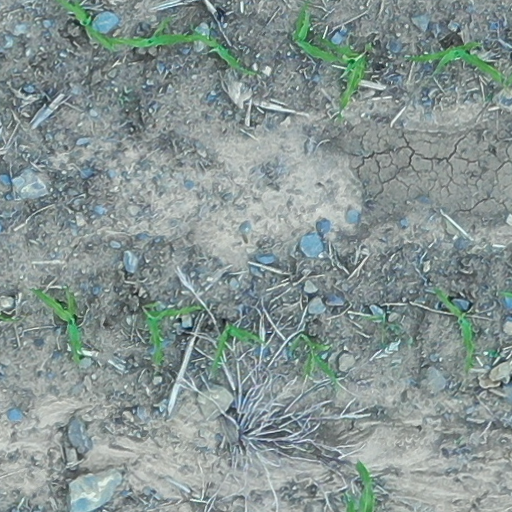planta: (406, 41, 504, 83), (34, 289, 83, 362), (320, 36, 367, 107), (101, 17, 206, 48), (435, 288, 475, 369), (146, 306, 202, 362), (193, 30, 259, 75), (294, 4, 344, 62), (212, 325, 264, 369), (301, 335, 336, 378)
